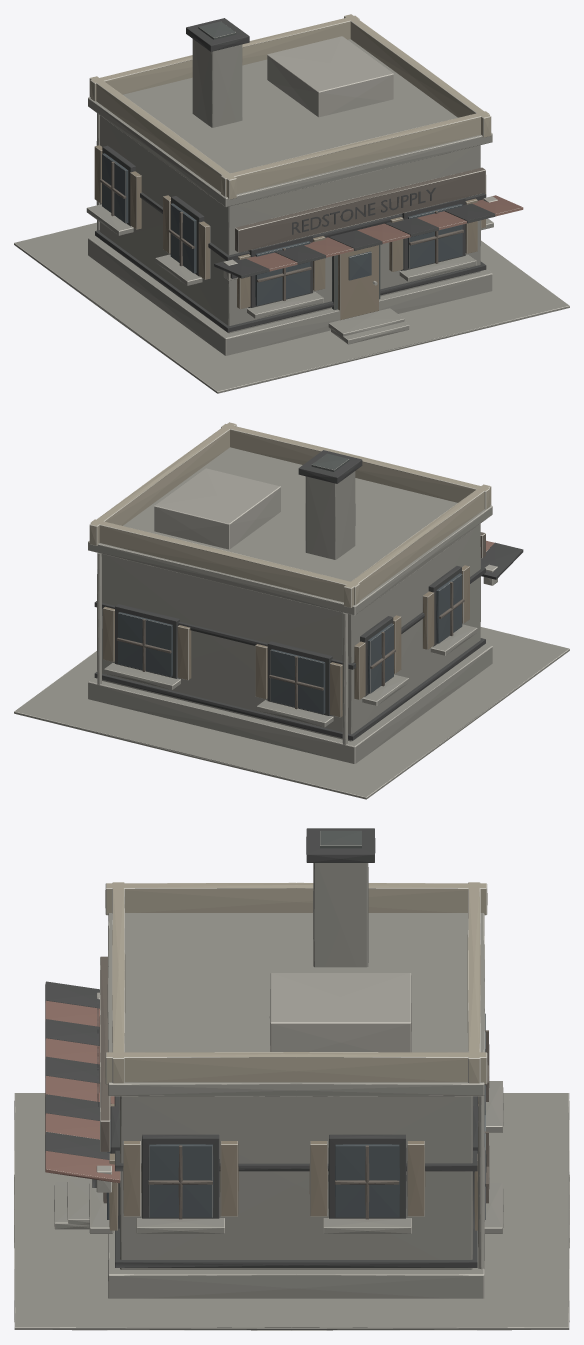
Rendered from district_art_5.glb.
3 renders of one model, top to bottom at view 1: azimuth 30°, elevation 25°; view 2: azimuth 150°, elevation 25°; view 3: azimuth 270°, elevation 25°, orthographic. The views are drawn at different scales.
Visible parts, largest first — view 1: stone, plaster, trim, timber, metal, glass, wood, cloth, dark; view 2: stone, plaster, metal, trim, glass, wood, timber; view 3: stone, plaster, trim, metal, glass, wood, cloth, timber, dark.
Part boxes in pixels (x1,y1,x2,y2): stone: [14, 39, 569, 393]; plaster: [89, 14, 491, 199]; trim: [95, 18, 495, 332]; timber: [100, 161, 485, 300]; metal: [96, 36, 497, 285]; glass: [102, 153, 462, 305]; wood: [94, 145, 486, 320]; cloth: [247, 195, 523, 271]; dark: [198, 21, 380, 310]; stone: [14, 447, 569, 799]; plaster: [89, 422, 491, 607]; metal: [97, 468, 497, 744]; trim: [94, 450, 523, 740]; glass: [118, 573, 462, 714]; wood: [103, 565, 469, 717]; timber: [116, 532, 485, 709]; stone: [14, 863, 569, 1330]; plaster: [105, 882, 487, 1084]; trim: [45, 828, 478, 1267]; metal: [96, 973, 484, 1269]; glass: [106, 1013, 486, 1219]; wood: [109, 1096, 478, 1230]; cloth: [45, 1000, 120, 1183]; timber: [99, 956, 489, 1219]; dark: [320, 830, 361, 848].
Bounding box in the file's own units: 12.5 × 8.39 × 12.5.
